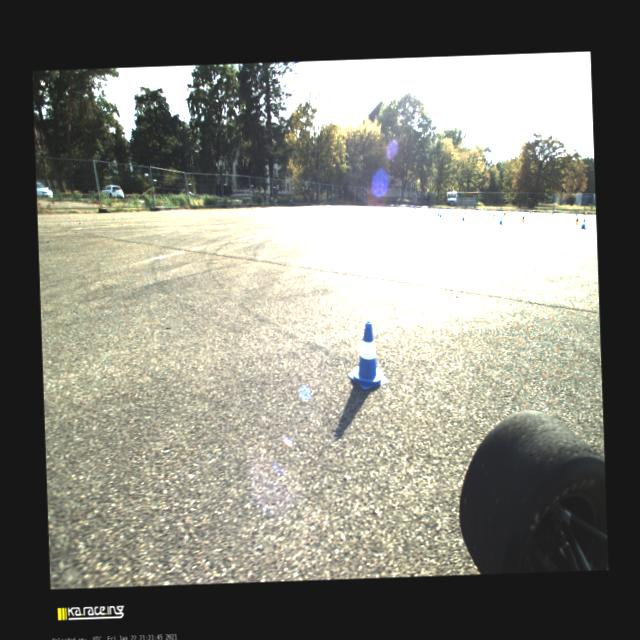blue_cone: (346, 320, 388, 389), (580, 218, 586, 230), (498, 216, 502, 224), (439, 210, 442, 217), (462, 213, 464, 221), (437, 210, 439, 216), (575, 212, 577, 216), (552, 210, 553, 214)
yellow_cone: (574, 217, 578, 224), (521, 215, 524, 222), (514, 212, 517, 216), (492, 214, 494, 220), (488, 212, 490, 218), (549, 210, 551, 216), (502, 212, 504, 217), (584, 212, 586, 216)
